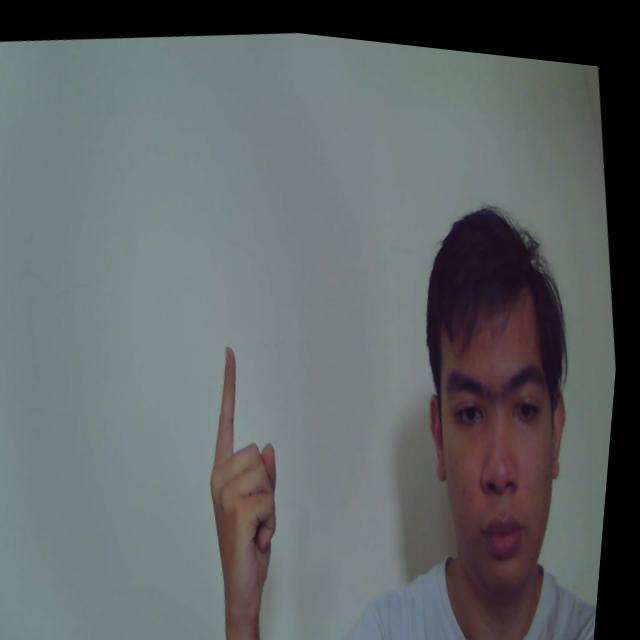D: (191, 332, 312, 612)
